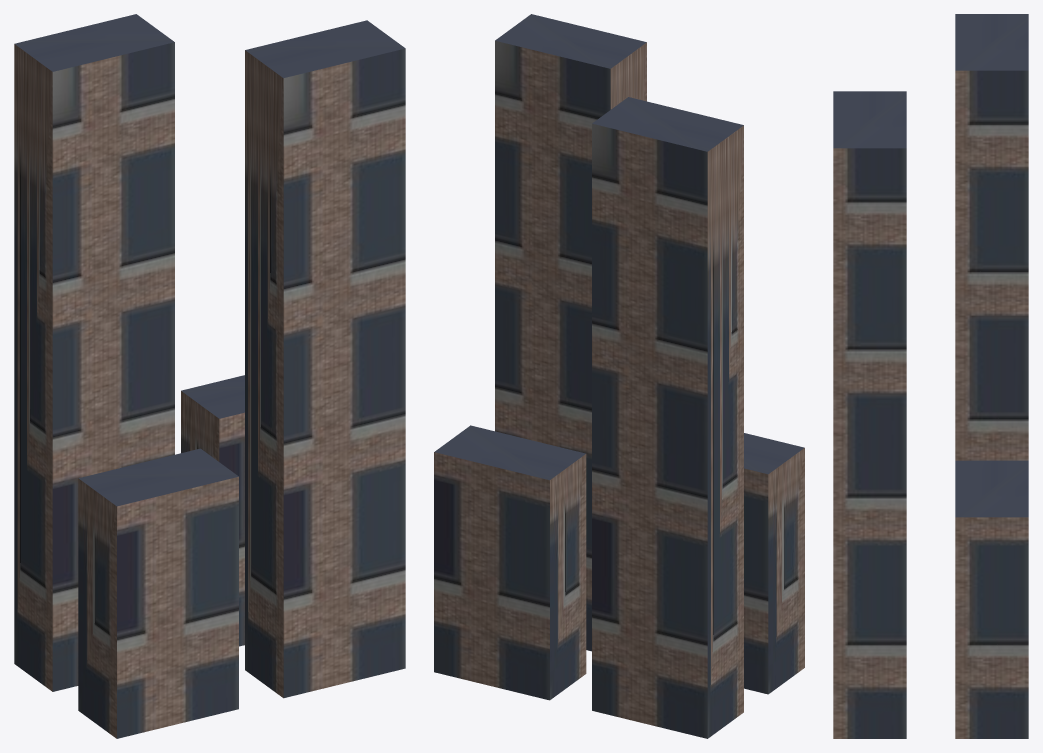
The model's file is block_28.obj.
The picture shows the model from 3 angles, left to right: view 1: azimuth 30°, elevation 25°; view 2: azimuth 150°, elevation 25°; view 3: azimuth 270°, elevation 25°; orthographic projection. The views are drawn at different scales.
Visible parts, largest first — view 1: b3, b0, b1, b2; view 2: b0, b3, b2, b1; view 3: b3, b0, b2.
Boxes of the visible parts, left/top/right/bottom form: b3: left=245, top=20, right=405, bottom=698; b0: left=14, top=14, right=174, bottom=691; b1: left=78, top=448, right=238, bottom=738; b2: left=181, top=375, right=244, bottom=646; b0: left=592, top=97, right=743, bottom=738; b3: left=495, top=14, right=646, bottom=651; b2: left=434, top=425, right=586, bottom=700; b1: left=744, top=433, right=804, bottom=694; b3: left=833, top=91, right=906, bottom=738; b0: left=955, top=14, right=1028, bottom=460; b2: left=955, top=460, right=1028, bottom=738.
Size of the model in its own units: 3.9 by 8 by 2.4.
